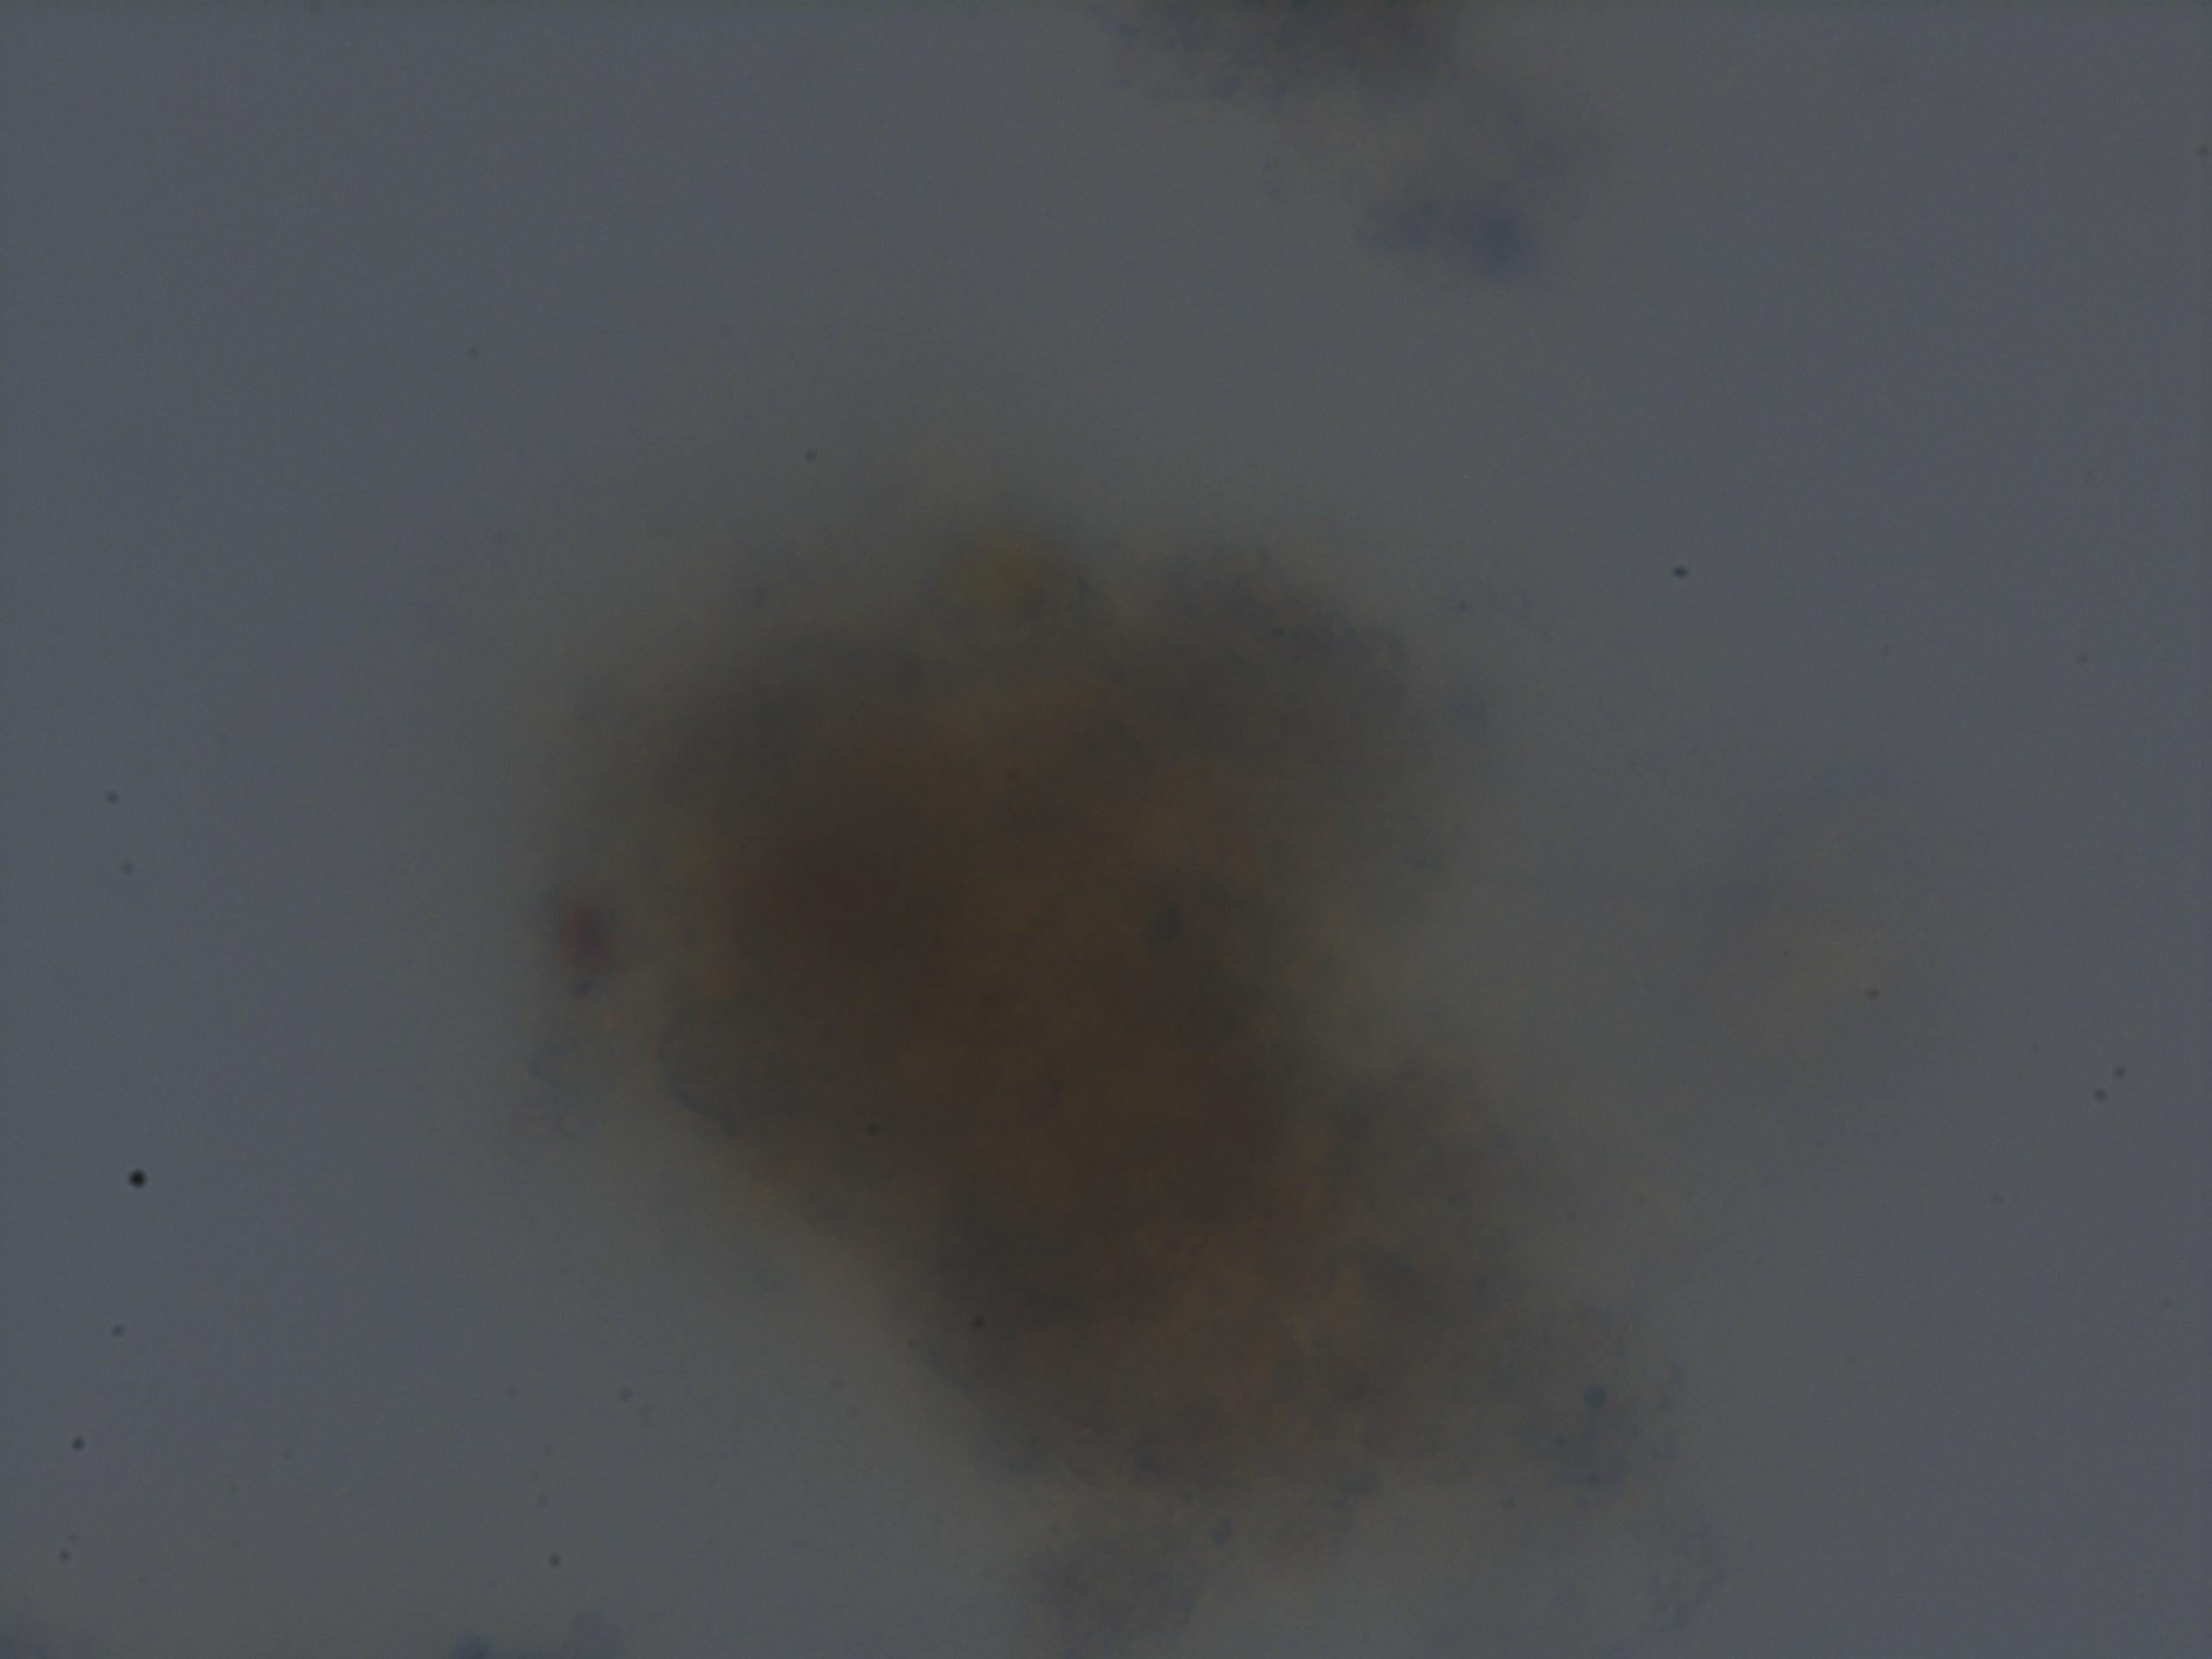spherical_floc: (554, 488, 1660, 1659)
